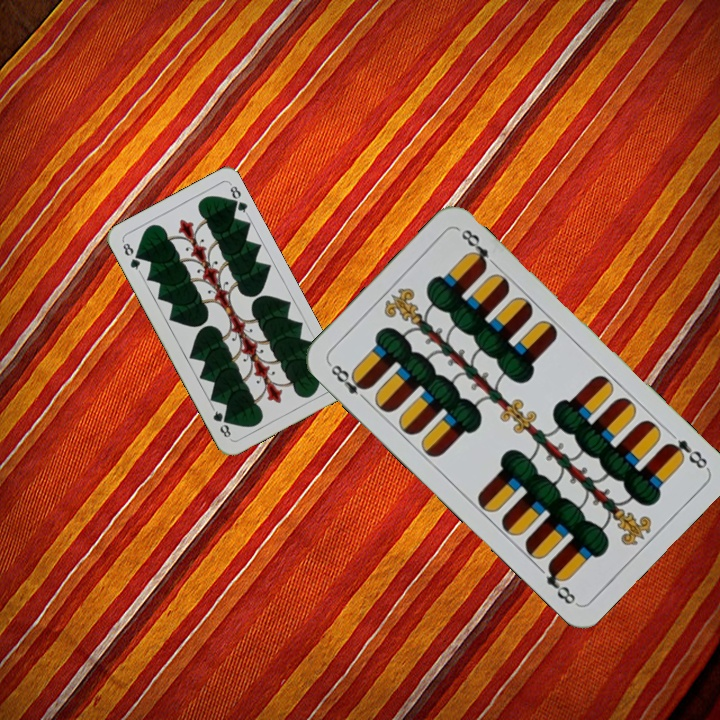E8: (325, 359, 372, 405), (662, 435, 710, 472)
G8: (119, 237, 143, 275)
